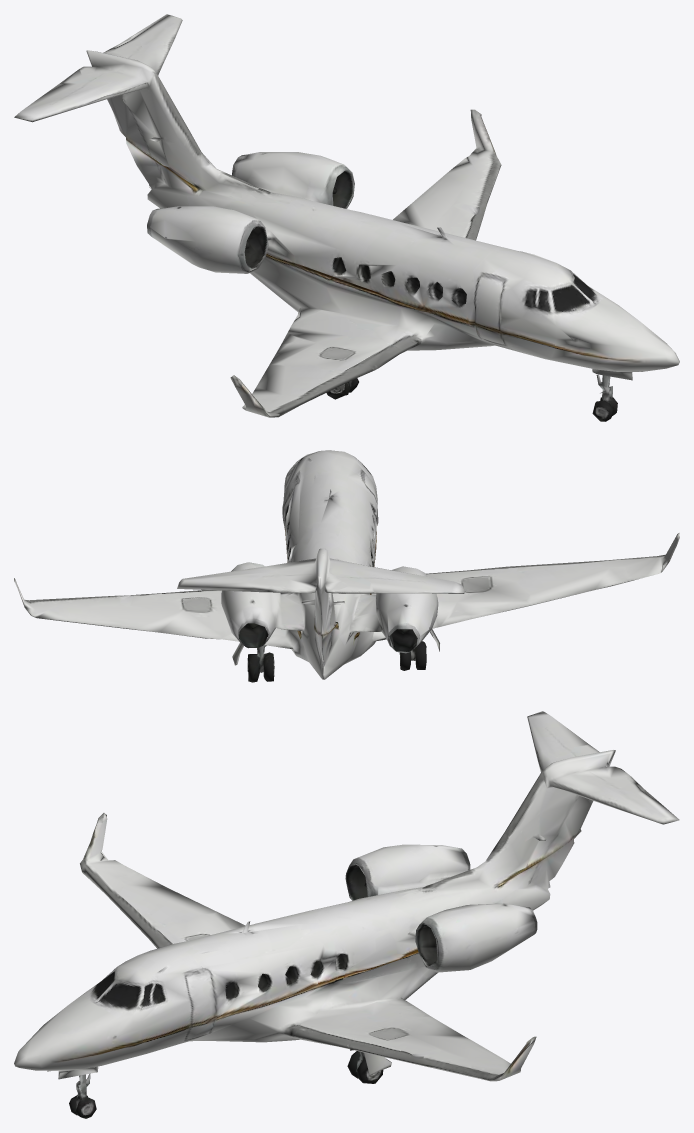
File: jet-lod.glb
3 renders of one model, top to bottom at view 1: azimuth 30°, elevation 25°; view 2: azimuth 150°, elevation 25°; view 3: azimuth 270°, elevation 25°, orthographic.
Parts seen in each view (by area): view 1: tripo_node_e4a11107-8ef0-401f-8359-d344fa0fdd08; view 2: tripo_node_e4a11107-8ef0-401f-8359-d344fa0fdd08; view 3: tripo_node_e4a11107-8ef0-401f-8359-d344fa0fdd08.
Part boxes in pixels (x1,y1,x2,y2): tripo_node_e4a11107-8ef0-401f-8359-d344fa0fdd08: (14,14,679,421); tripo_node_e4a11107-8ef0-401f-8359-d344fa0fdd08: (14,450,679,682); tripo_node_e4a11107-8ef0-401f-8359-d344fa0fdd08: (14,711,679,1118).
Bounding box in the file's own units: 0.8106 × 0.4017 × 0.9991.
Materials: 1 (1 with a texture image).
